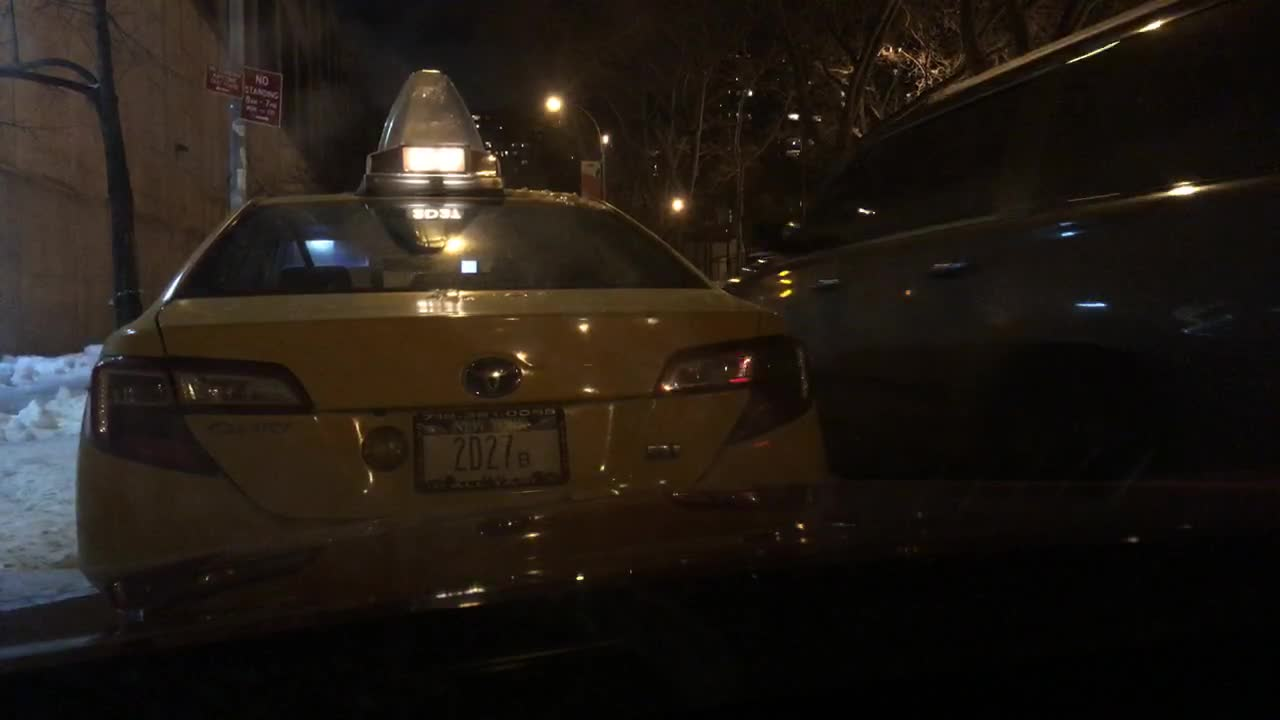car: (76, 69, 827, 590), (719, 0, 1279, 482)
traffic sign: (239, 66, 283, 123), (201, 64, 239, 94)
